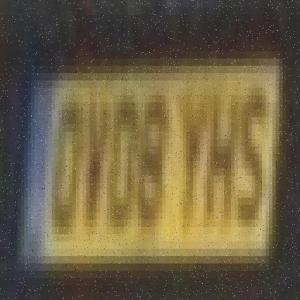Plate: (14, 34, 286, 282)
